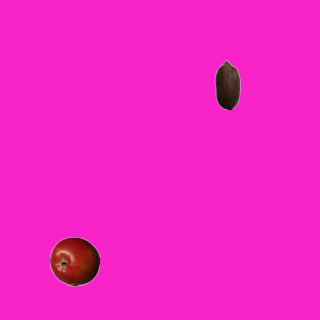Apple Braeburn: (49, 236, 99, 286)
Nut Pecan: (202, 59, 252, 109)
